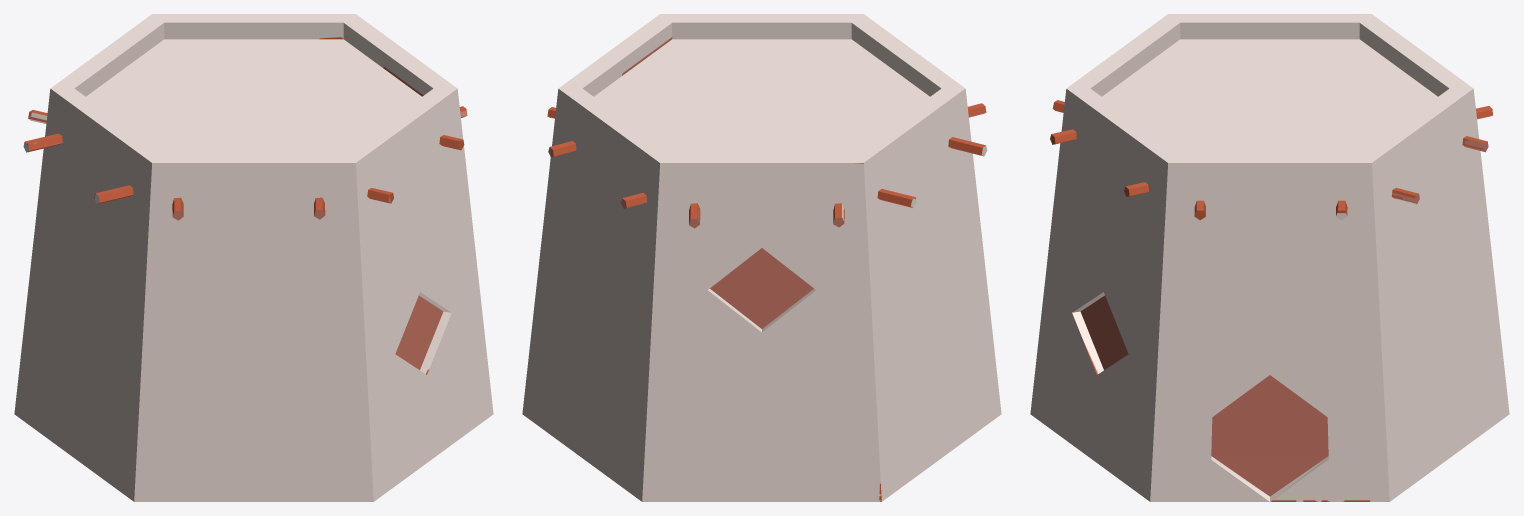
Rendered from Midhouse.glb.
3 renders of one model, left to right at view 1: azimuth 30°, elevation 25°; view 2: azimuth 150°, elevation 25°; view 3: azimuth 270°, elevation 25°, orthographic.
Visible parts, largest first — view 1: MidHouse; view 2: MidHouse; view 3: MidHouse.
Part boxes in pixels (x1,y1,x2,y2): MidHouse: (14, 14, 493, 501); MidHouse: (522, 14, 1001, 501); MidHouse: (1030, 14, 1509, 501).
Size of the model in its own units: 3.56 by 3 by 4.
Materials: 1 (1 with a texture image).
